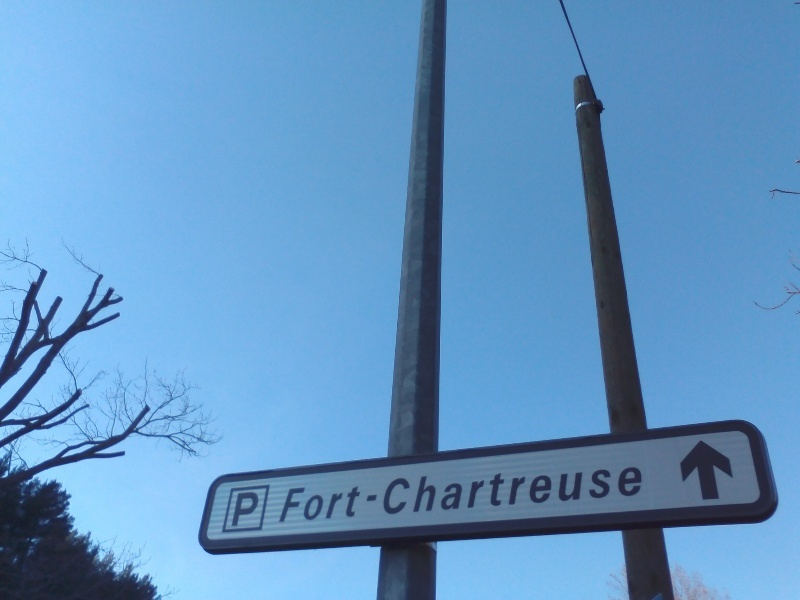text: (305, 458, 320, 526), (321, 458, 336, 526), (337, 458, 352, 526), (353, 458, 368, 526), (369, 458, 384, 526), (385, 458, 400, 526), (401, 458, 416, 526), (417, 458, 432, 526), (433, 458, 448, 526), (449, 458, 464, 526), (465, 458, 480, 526), (481, 458, 496, 526), (497, 458, 512, 526), (513, 458, 528, 526), (529, 458, 544, 526), (545, 458, 560, 526), (561, 458, 576, 526), (577, 458, 592, 526), (593, 458, 608, 526), (609, 458, 624, 526), (625, 458, 640, 526), (290, 458, 304, 526), (241, 489, 256, 527), (641, 458, 647, 526), (232, 489, 240, 527), (257, 489, 261, 527)
